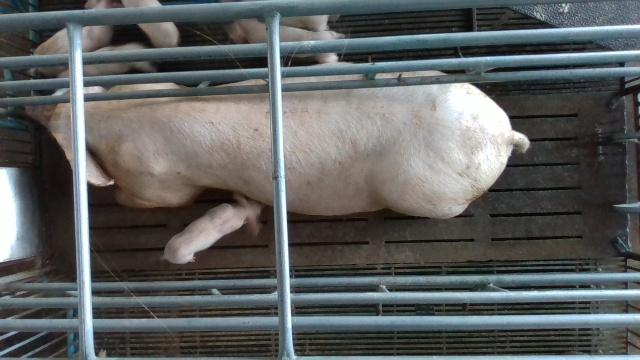piglet: (162, 192, 261, 265), (33, 0, 121, 73), (227, 21, 345, 63), (58, 42, 153, 76), (123, 0, 180, 45)
sow-sit: (24, 63, 530, 220)
